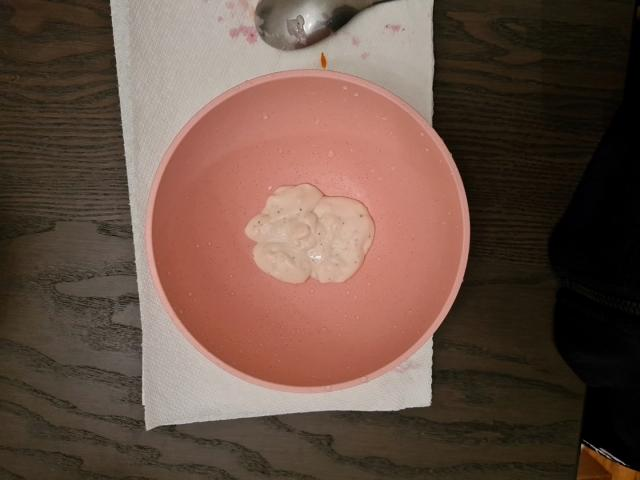kichen waste: (245, 183, 376, 285)
